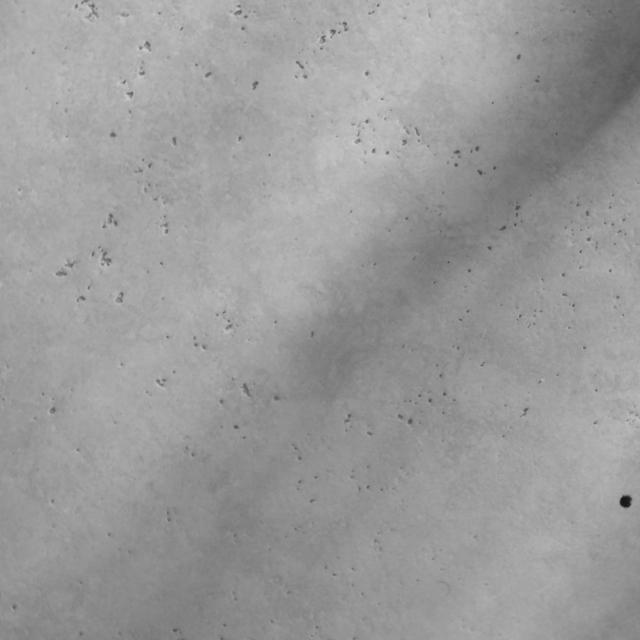rough and patchy surface: (1, 4, 633, 640)
